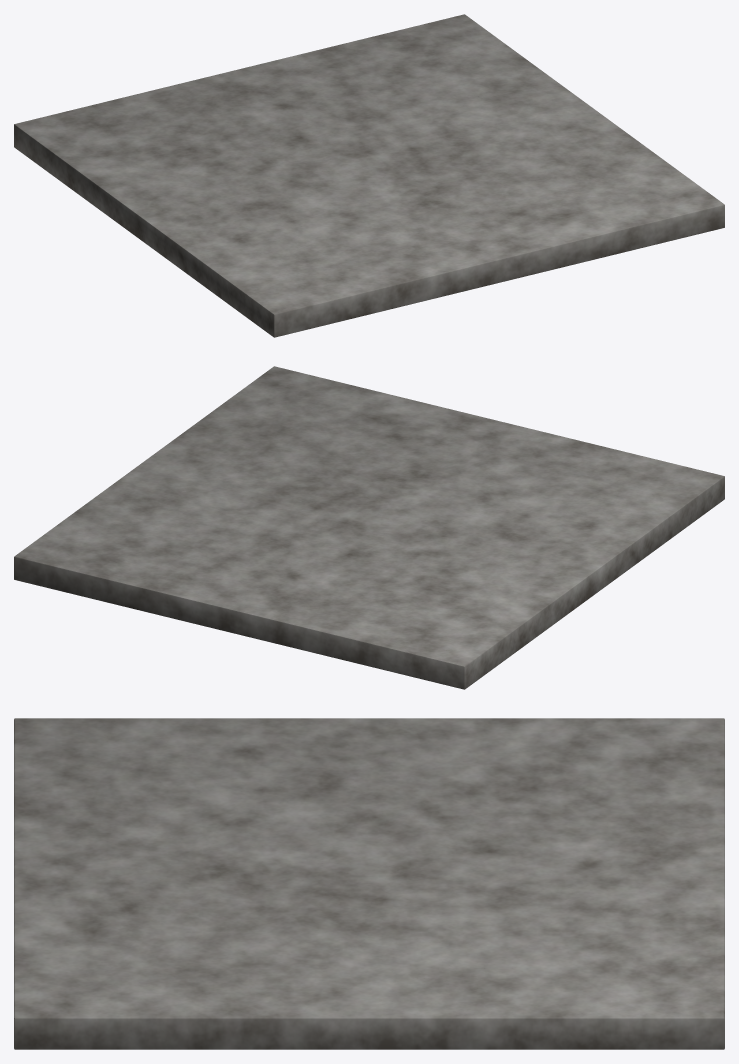
The model's file is g67_pz_ceil_vent.glb.
3 views of the same model, one above another, from view 1: azimuth 30°, elevation 25°; view 2: azimuth 150°, elevation 25°; view 3: azimuth 270°, elevation 25° (orthographic). The views are drawn at different scales.
Visible parts, largest first — view 1: g67_pz_ceil_vent; view 2: g67_pz_ceil_vent; view 3: g67_pz_ceil_vent.
Boxes of the visible parts, x1,y1,x2,y2 form: g67_pz_ceil_vent: [14, 14, 724, 337]; g67_pz_ceil_vent: [14, 366, 724, 689]; g67_pz_ceil_vent: [14, 718, 724, 1049].
Bounding box in the file's own units: 4 × 0.2907 × 4.
1 material, 1 textured.
